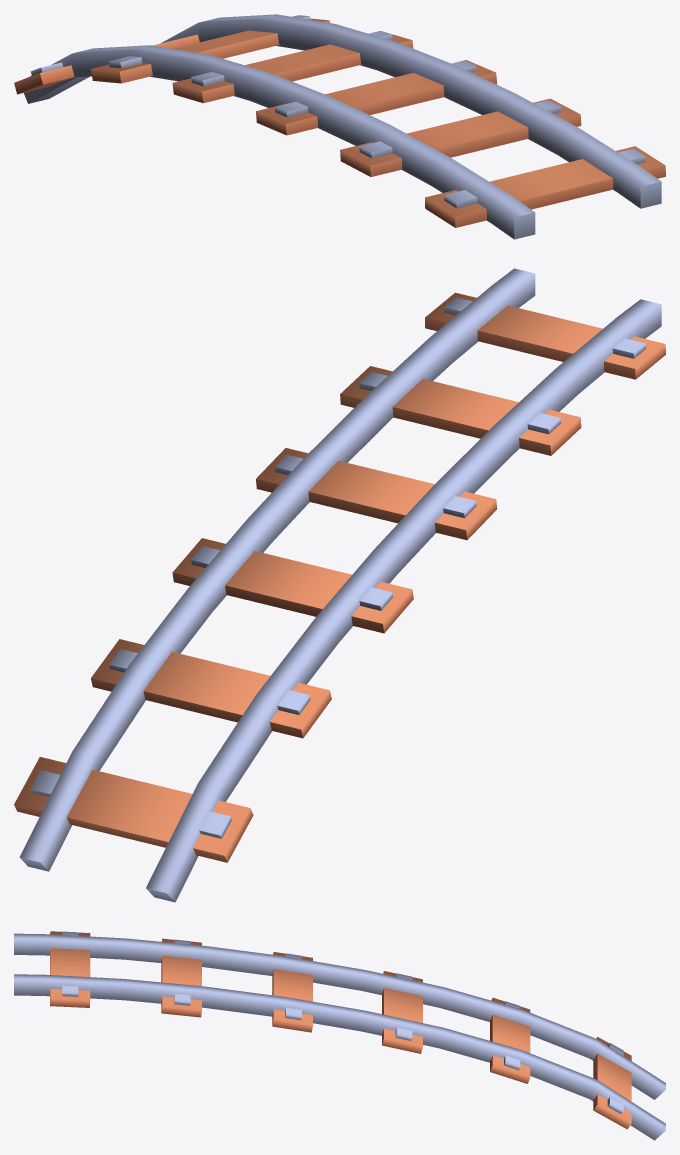
File: kenney-train-railroad-straight-hill-end.glb
The picture shows the model from 3 angles, top to bottom: view 1: azimuth 30°, elevation 25°; view 2: azimuth 150°, elevation 25°; view 3: azimuth 270°, elevation 25°; orthographic projection. The views are drawn at different scales.
Parts seen in each view (by area): view 1: railroad-straight-hill-end; view 2: railroad-straight-hill-end; view 3: railroad-straight-hill-end.
Part boxes in pixels (<box>): railroad-straight-hill-end: <box>14,14,665,239</box>; railroad-straight-hill-end: <box>14,268,665,902</box>; railroad-straight-hill-end: <box>14,931,665,1140</box>.
Bounding box in the file's own units: 0.9998 × 1.1 × 4.07.
Materials: 1 (1 with a texture image).
